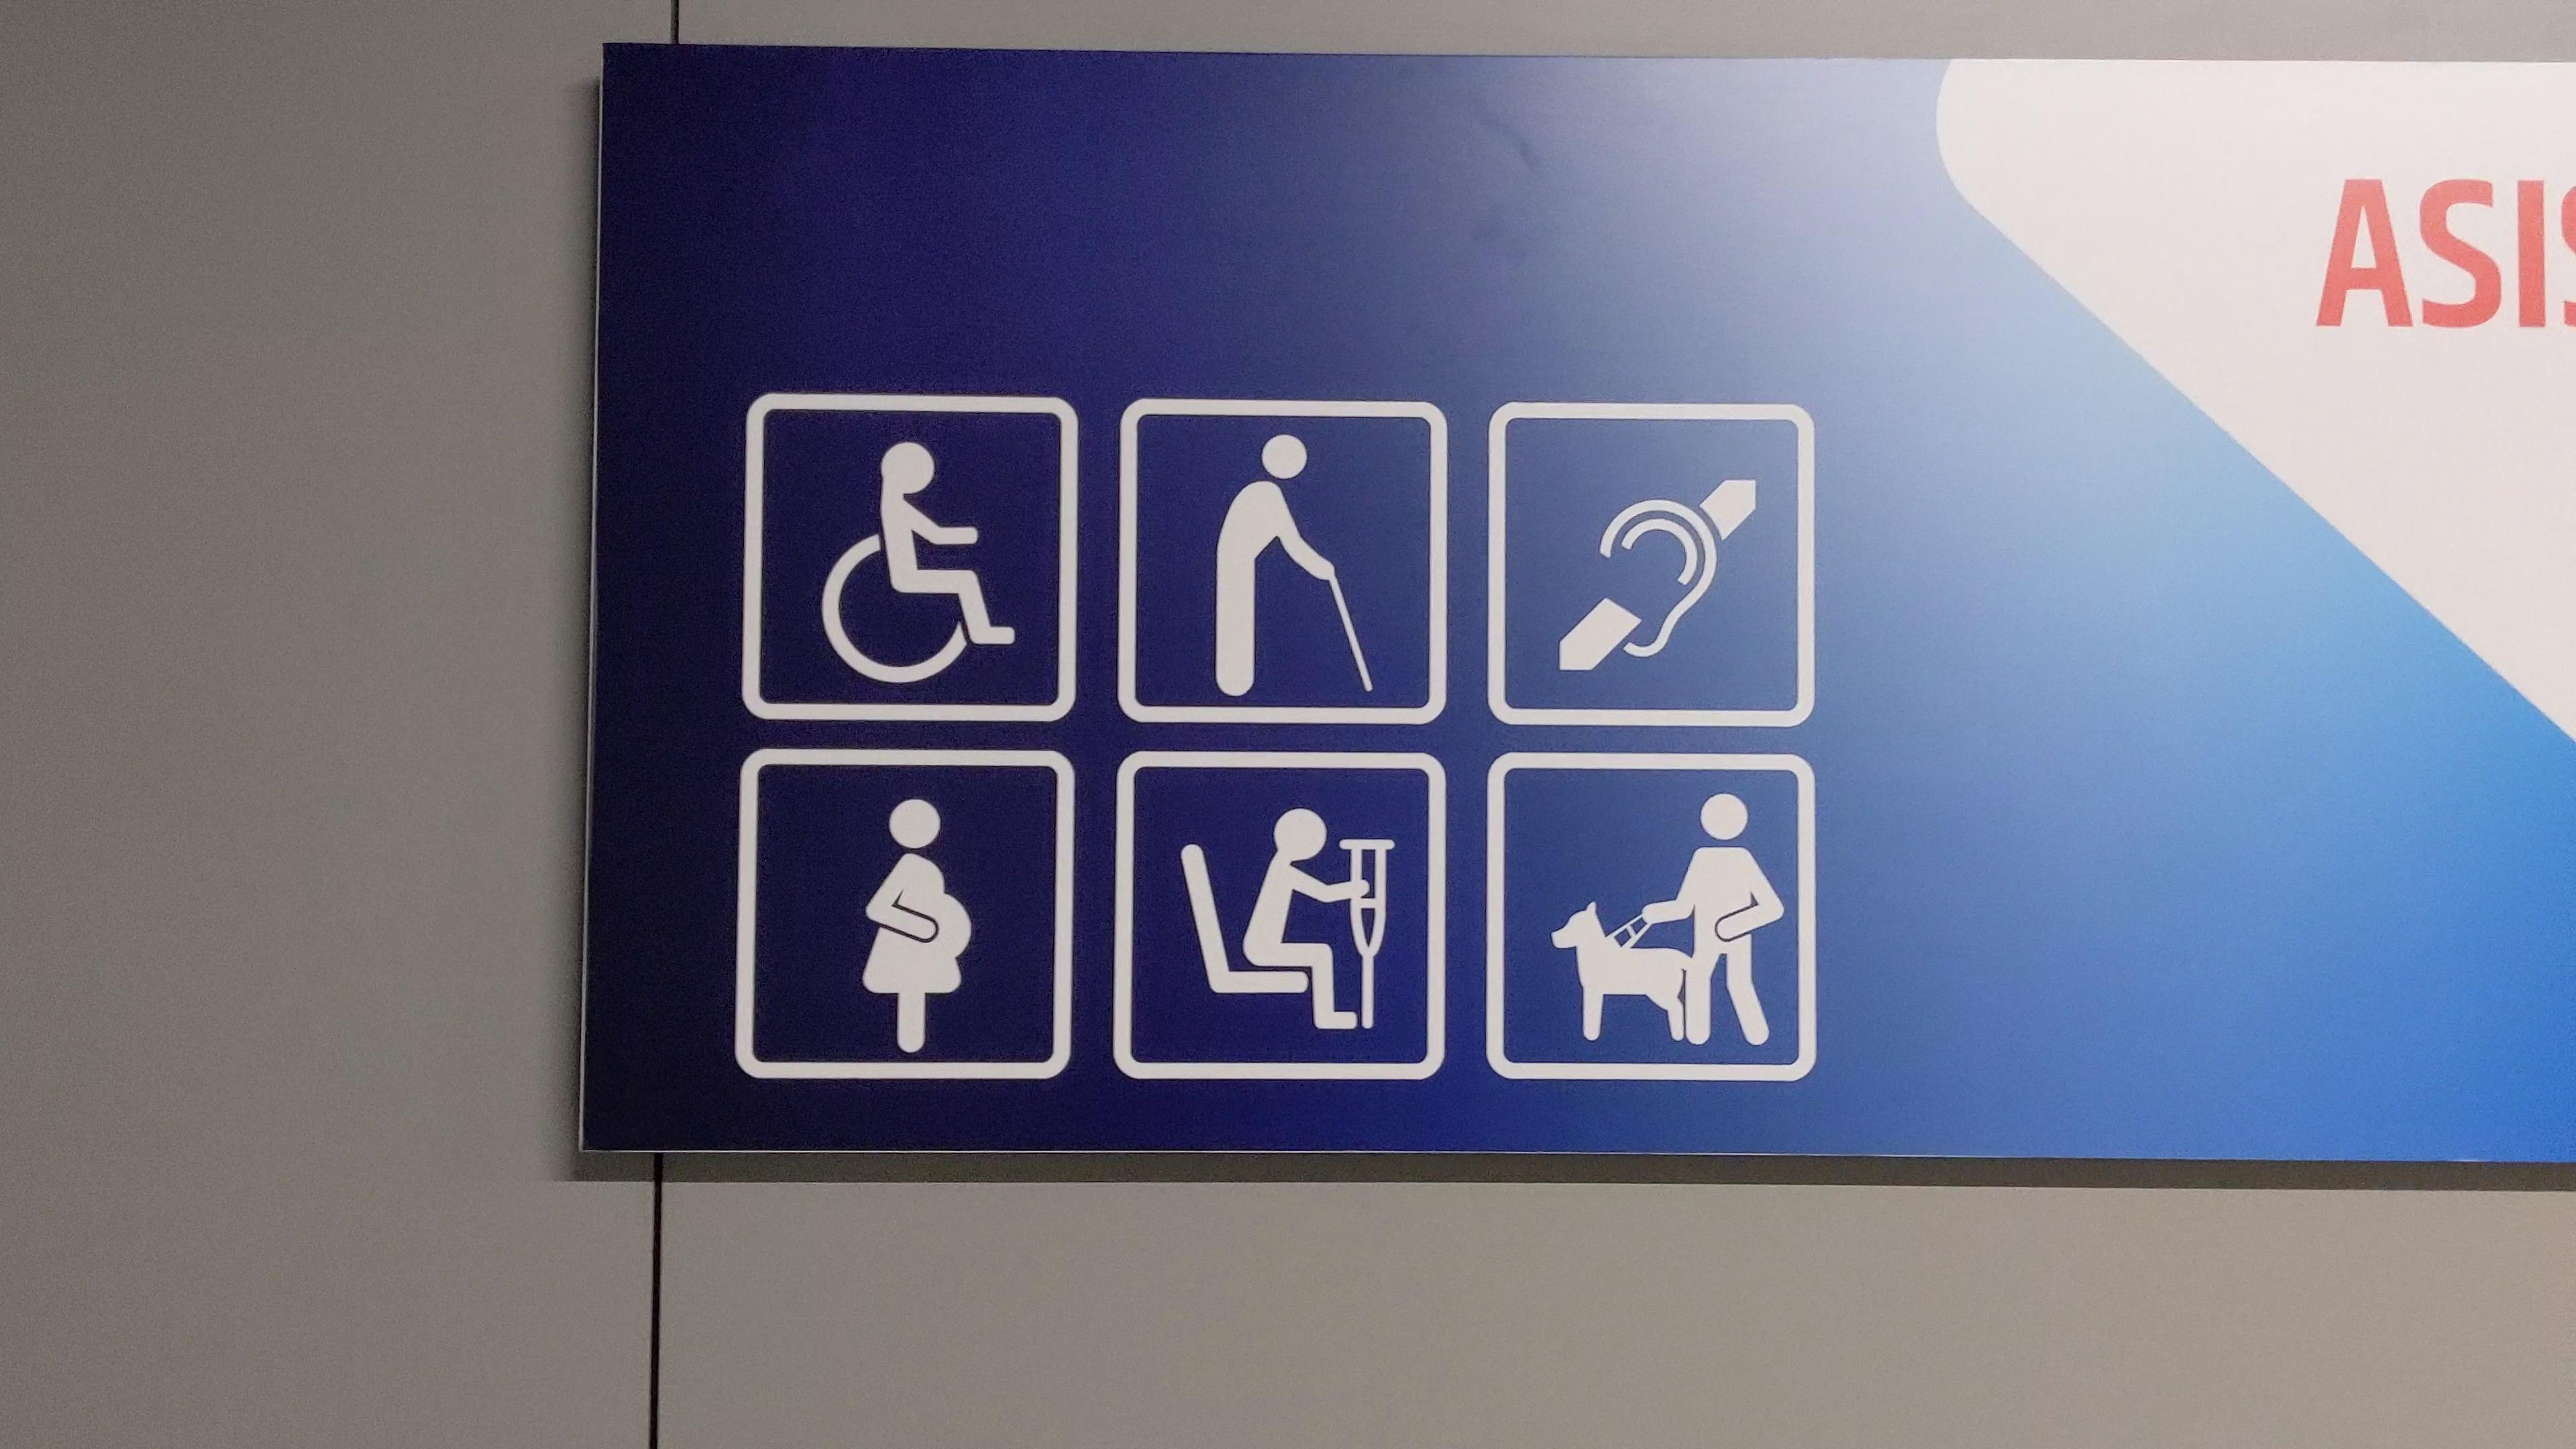handicapped symbol: (816, 439, 1023, 688)
